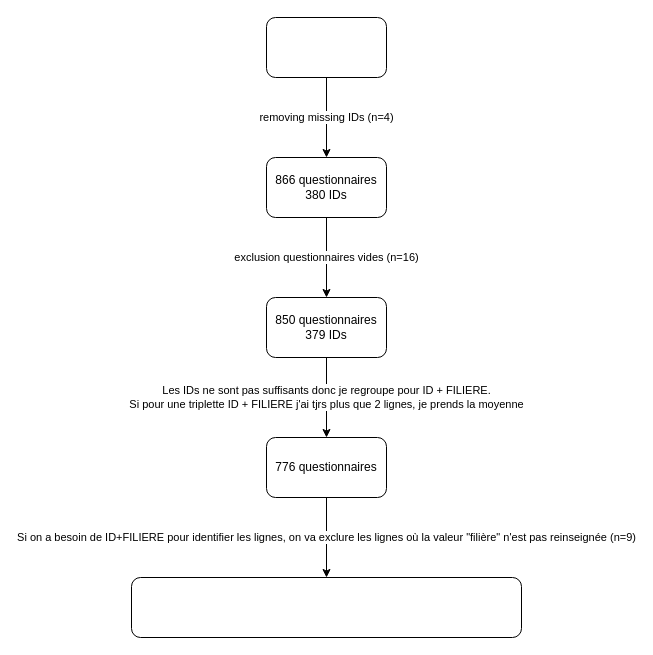
Some shapes in this 653 by 655 pixel diagram are drawn without their labels. The centre of each missing label's shape, as x and y in pixels:
"767 questionnaires 413 identités uniques données par ID+FILIERE" goes at (326,607).
"870 questionnaires rentrés" goes at (326,47).
